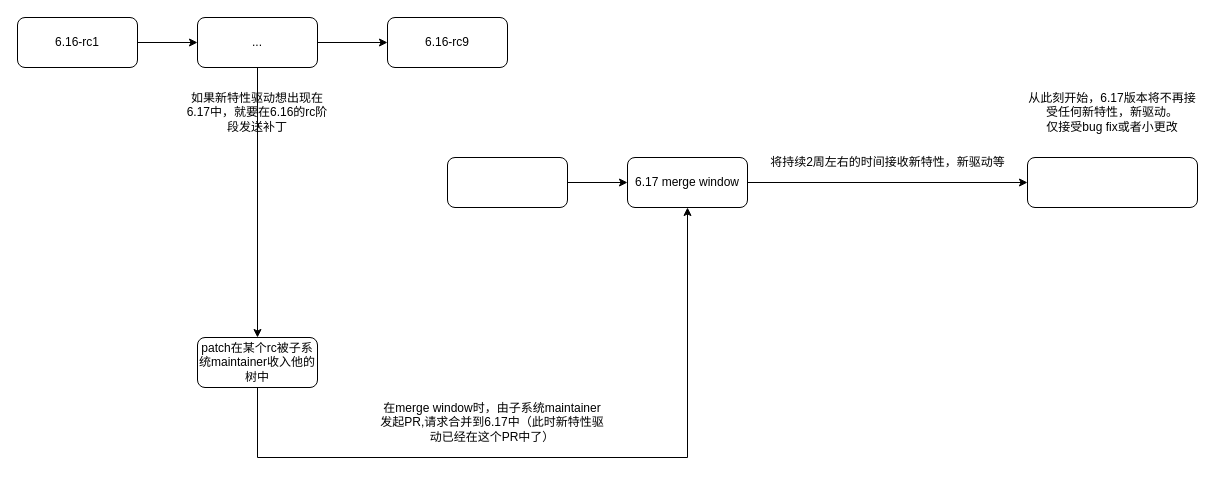
This 1215x483 diagram has some shape labels left out. Each missing label, with the centre of its shape:
6.16已经结束，内核开启6.17新版本: the point at 507,182
6.17-rc1: the point at 1112,182
